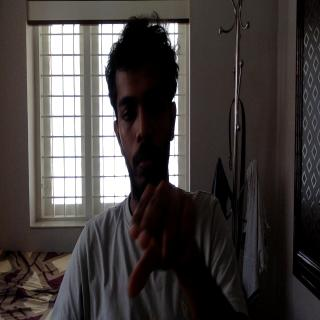No: (117, 178, 221, 318)
